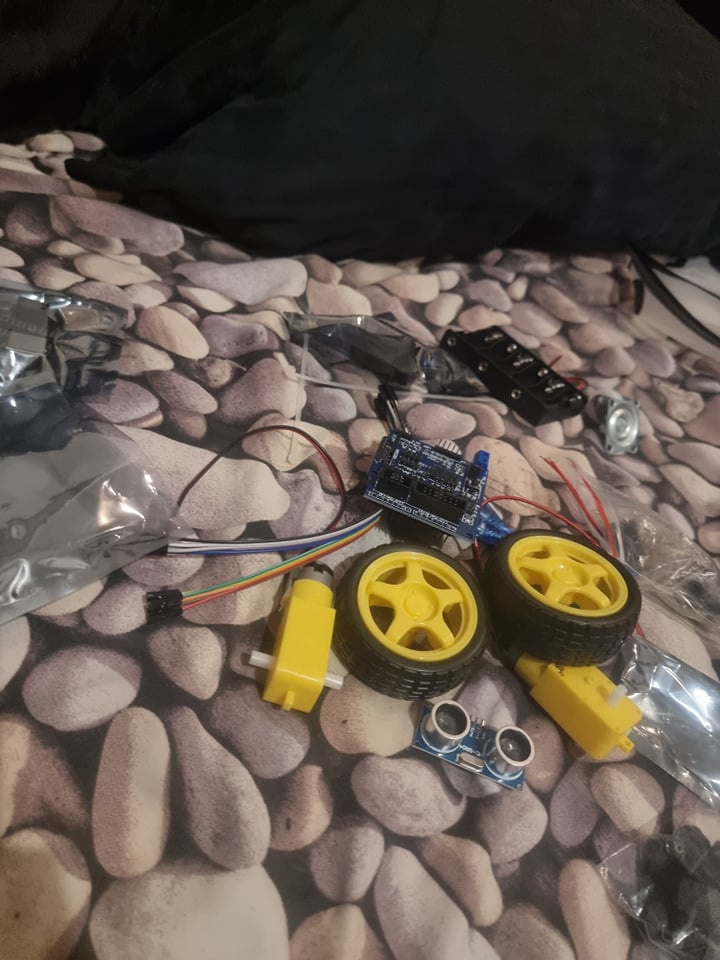5V EXPANSION: (360, 430, 491, 543)
BATTERY BOX: (446, 306, 588, 427)
SENSOR: (416, 699, 537, 783)
